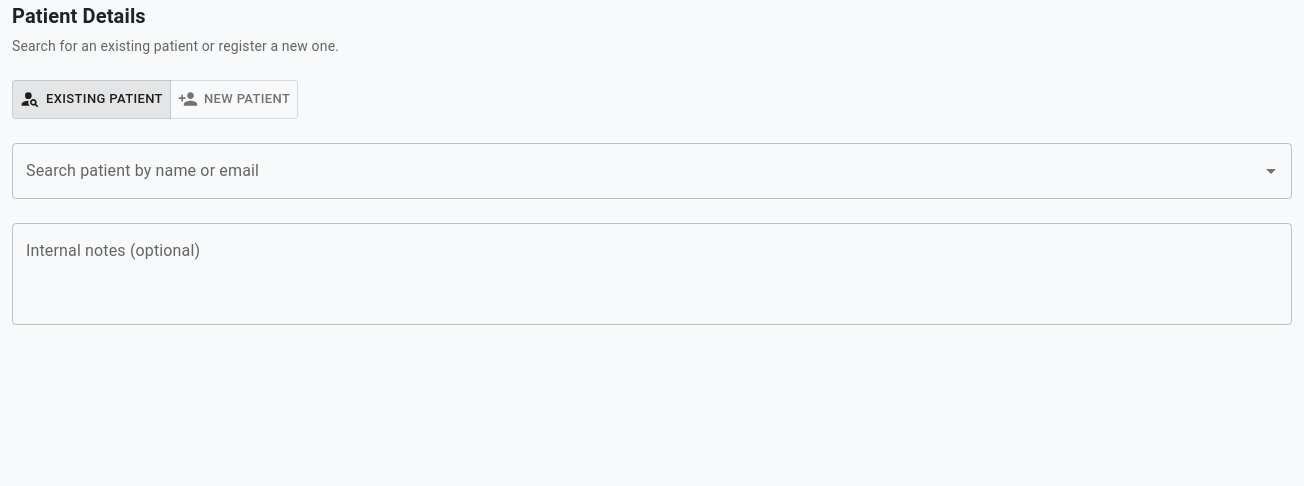
BookingStep4Patient — new-patient zod validation (F-24) › switching to New Patient reveals the form with no errors shown yet
Click the button "New Patient" at (234, 99), box [170,80,298,119]
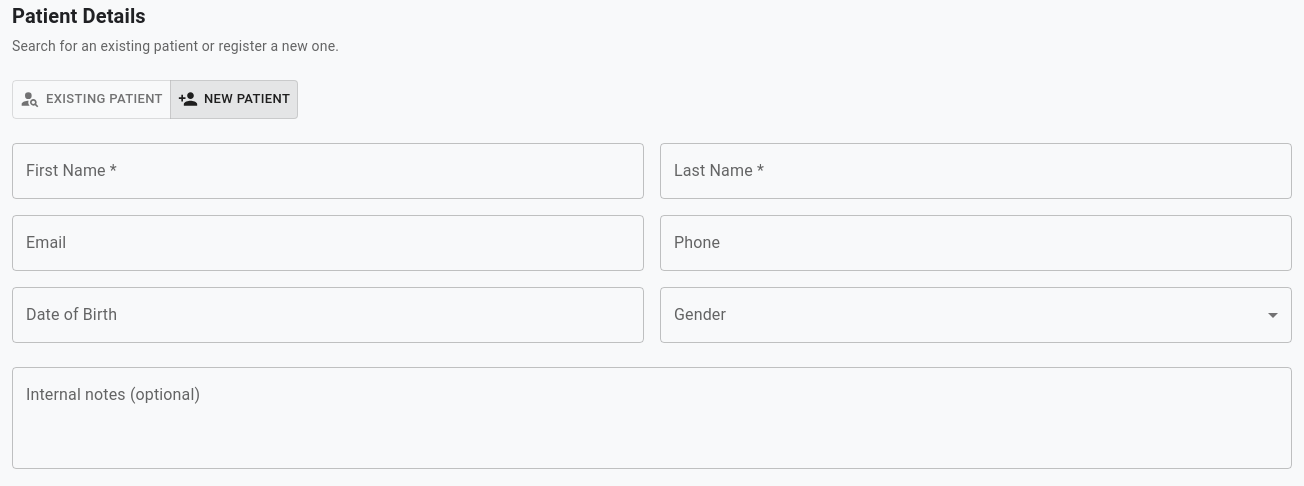
Check: the field labelled "First Name *" is shown, box [12,143,644,199]
